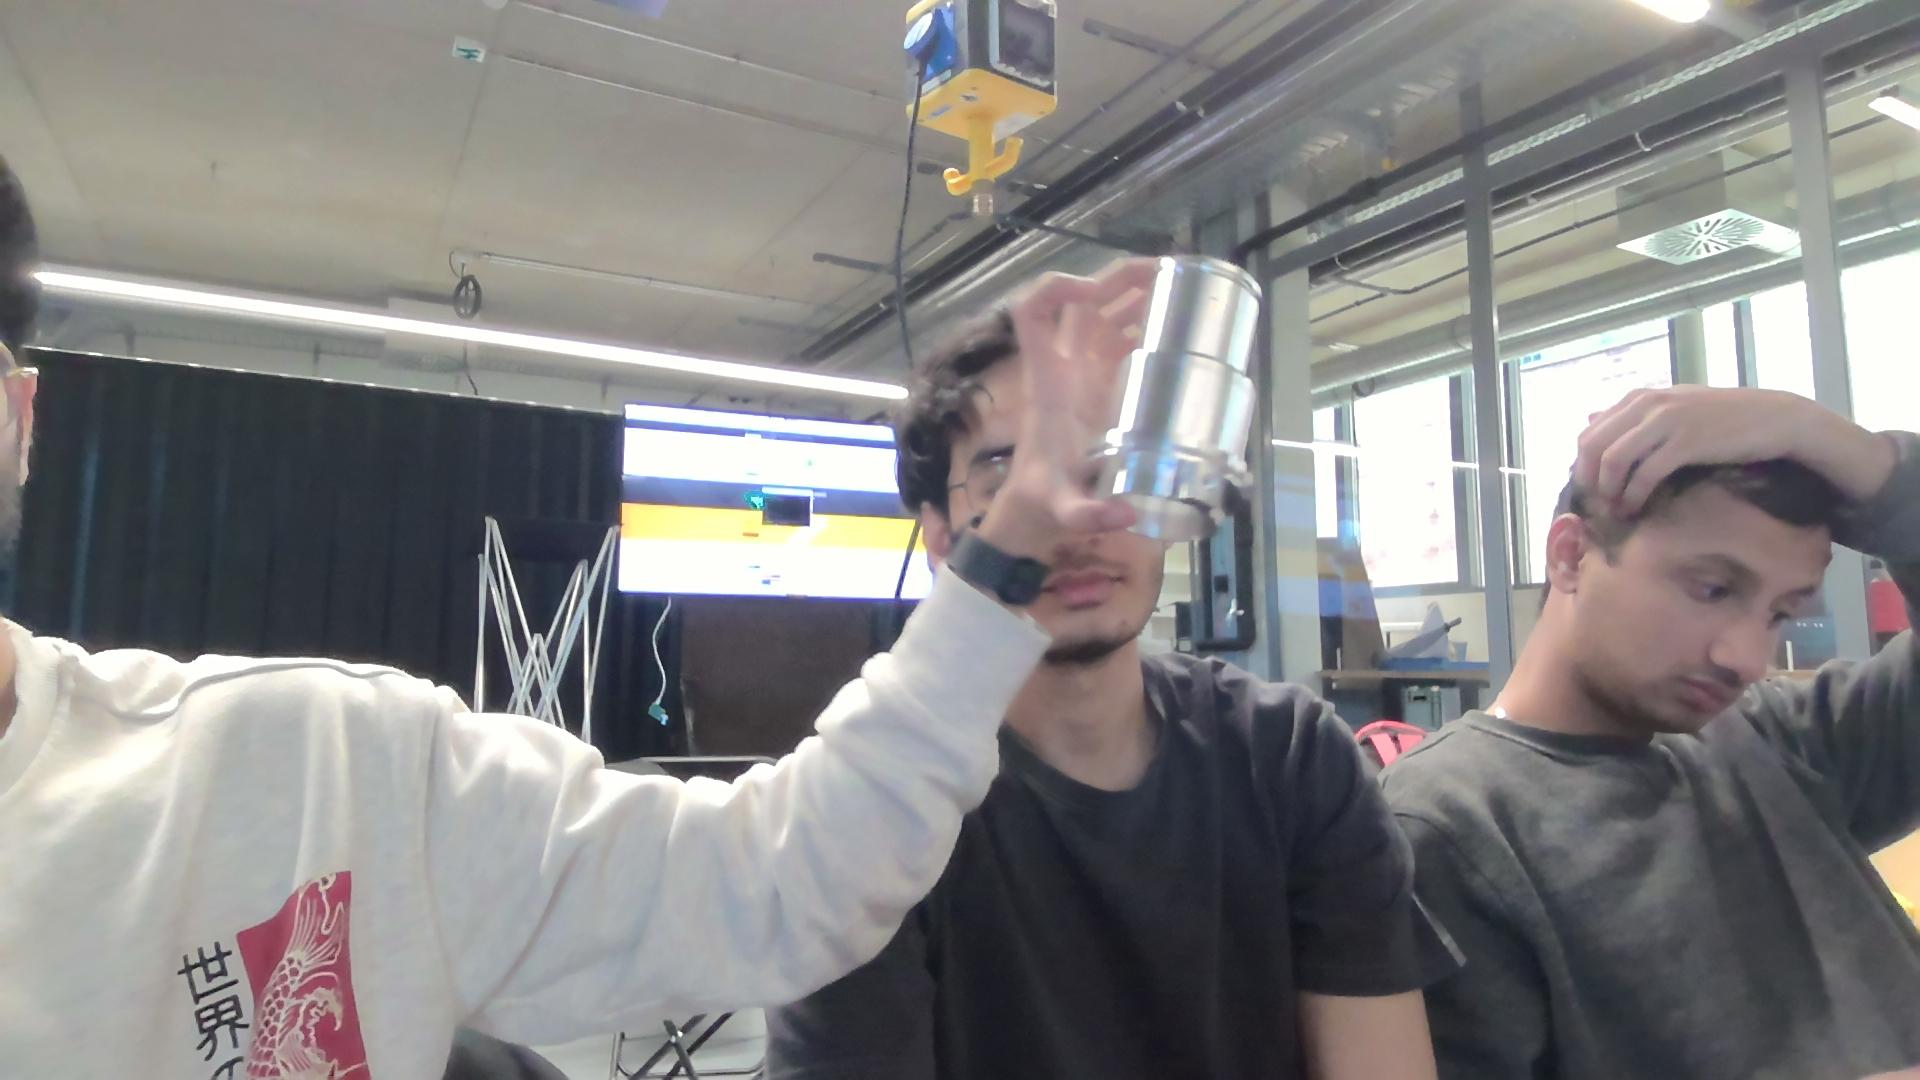damage: (1203, 286, 1224, 307)
objects: (1104, 233, 1273, 546)
